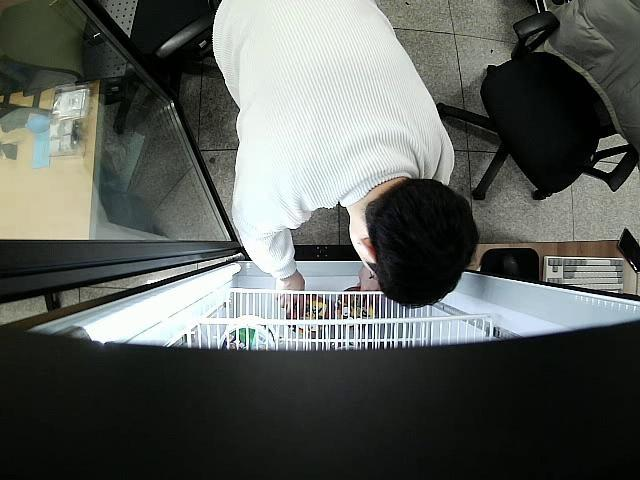05_nuguri_L: (288, 294, 332, 334), (336, 286, 374, 327)
